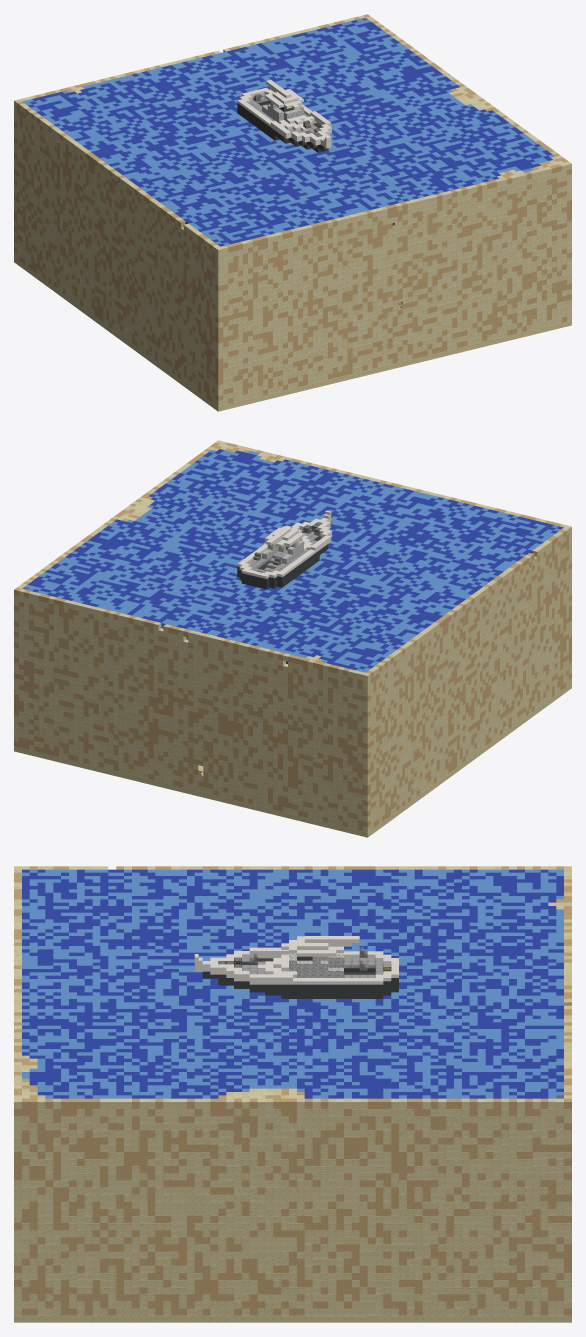
File: minecraft.obj
3 renders of one model, top to bottom at view 1: azimuth 30°, elevation 25°; view 2: azimuth 150°, elevation 25°; view 3: azimuth 270°, elevation 25°, orthographic. The views are drawn at different scales.
Bounding box in the file's own units: 71 × 37.5 × 71.
